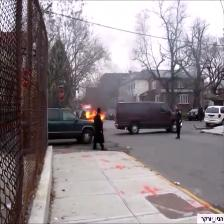fire: (86, 111, 107, 122)
smoke: (98, 76, 120, 104)
